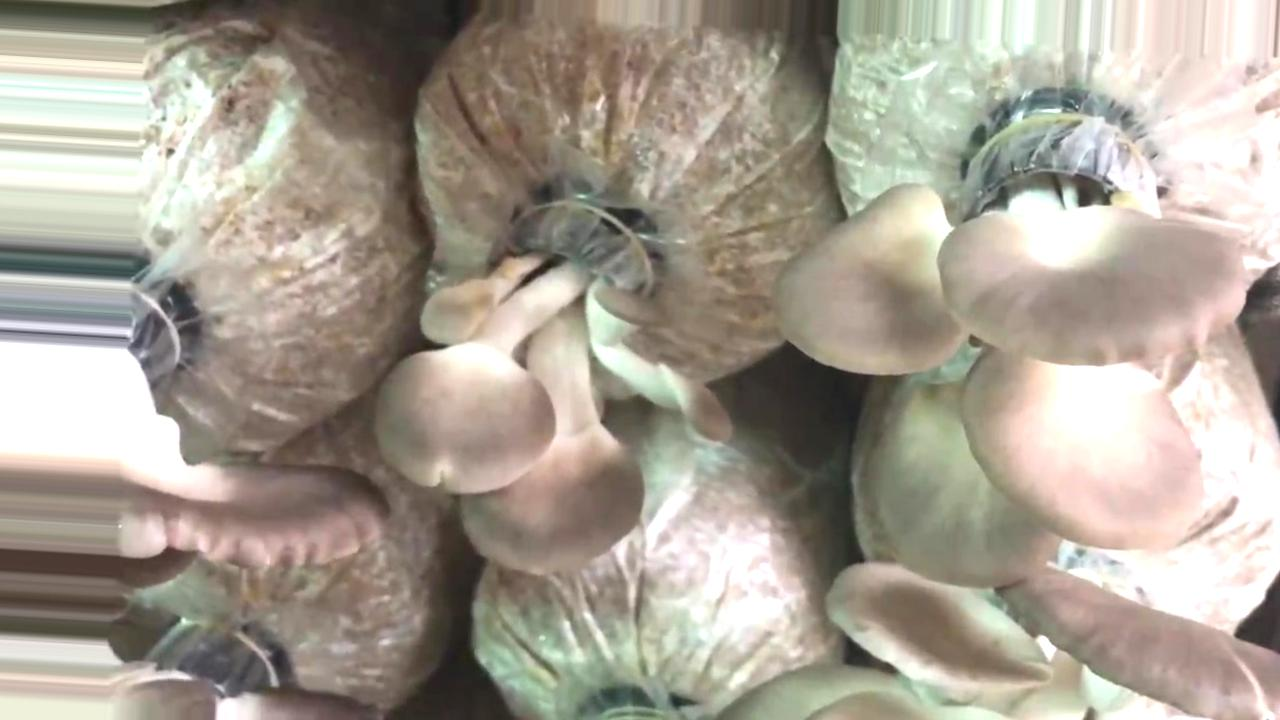nam: (773, 88, 1245, 592), (385, 177, 710, 578), (761, 574, 1280, 719), (130, 468, 366, 560)
